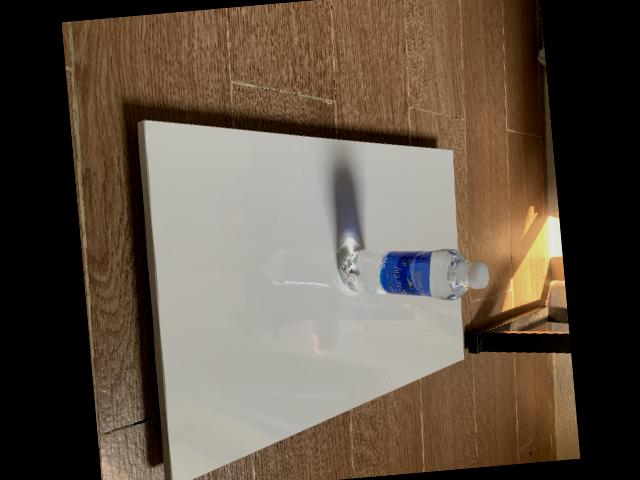aquafina: (341, 248, 488, 300)
